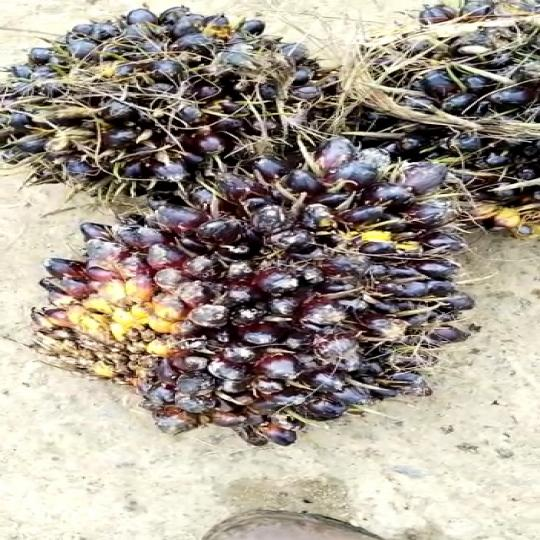mentah: (35, 133, 489, 463), (0, 0, 357, 209), (320, 0, 540, 224)
